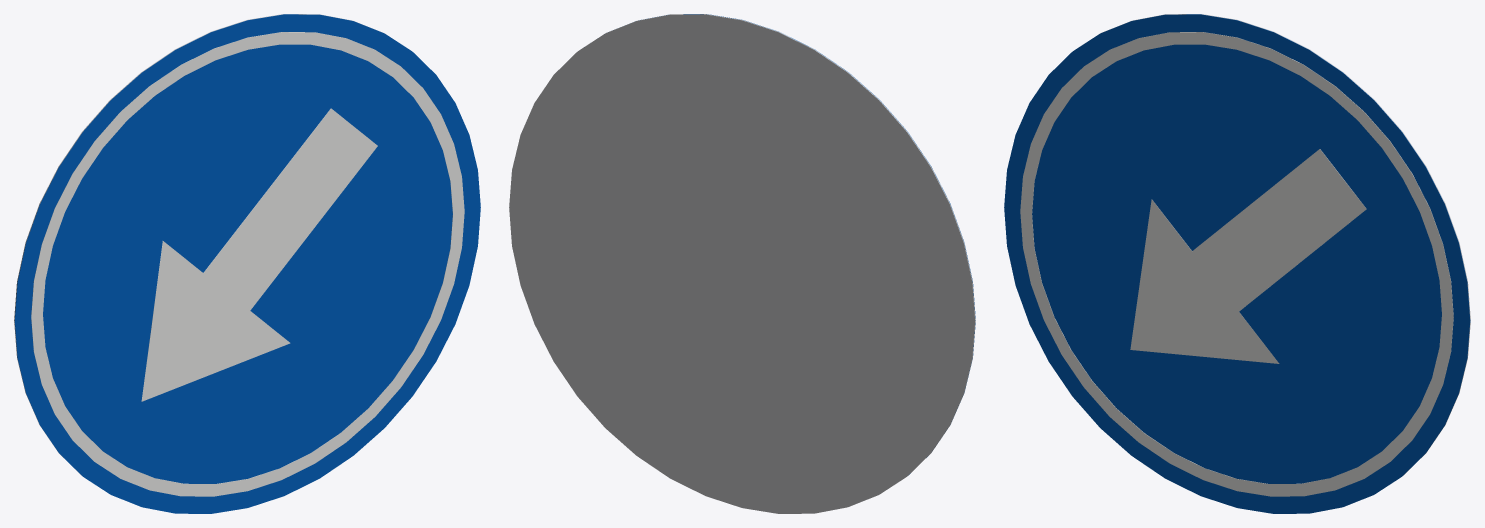
The picture shows the model from 3 angles, left to right: view 1: azimuth 30°, elevation 25°; view 2: azimuth 150°, elevation 25°; view 3: azimuth 330°, elevation 25°; orthographic projection.
Parts seen in each view (by area): view 1: B21a_d00, B21a_p02, B21a_o01, B21a_dos; view 2: B21a_dos; view 3: B21a_d00, B21a_p02, B21a_o01, B21a_dos.
Part boxes in pixels (x1,y1,x2,y2): B21a_d00: (14,14,480,513); B21a_p02: (141,108,377,401); B21a_o01: (31,32,464,496); B21a_dos: (14,14,383,475); B21a_dos: (509,14,975,513); B21a_d00: (1004,14,1470,513); B21a_p02: (1130,149,1366,363); B21a_o01: (1020,32,1453,496); B21a_dos: (1101,14,1470,475).
Bounding box in the file's own units: 0.65 × 0.65 × 0.0025.
